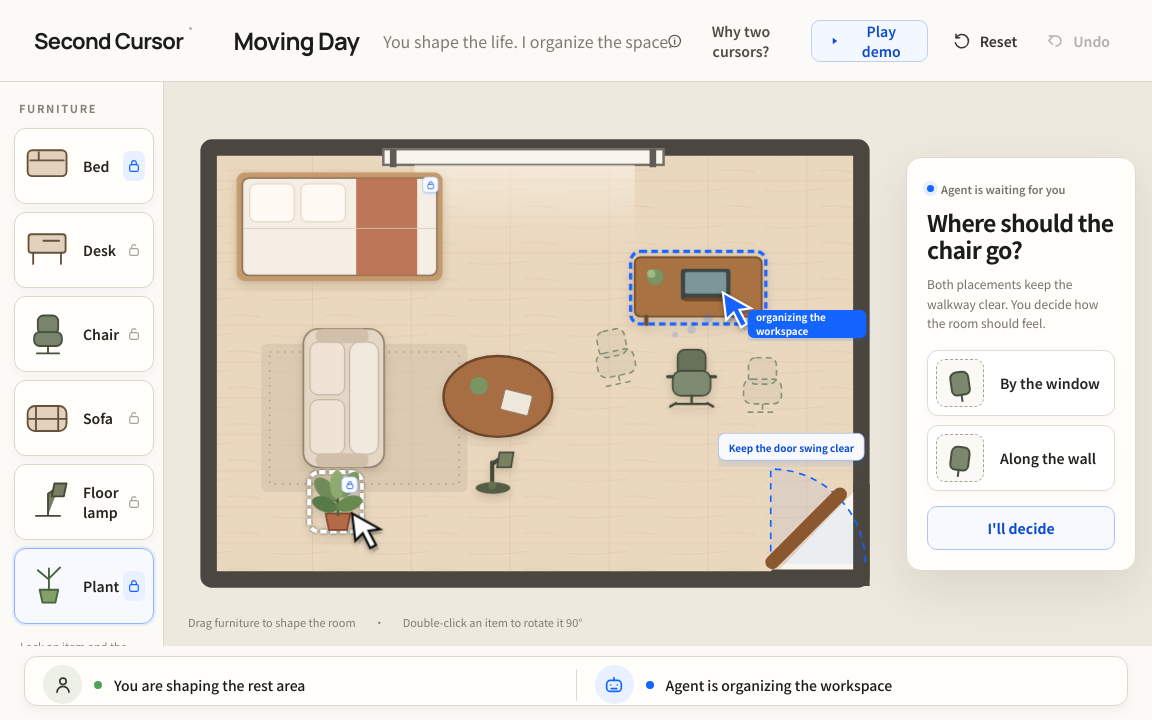
Test: Second Cursor: Moving Day › lets the human protect a furniture decision from the Agent
Click the button named "Prevent Agent from moving Desk": (134, 250) [126,242,142,258]
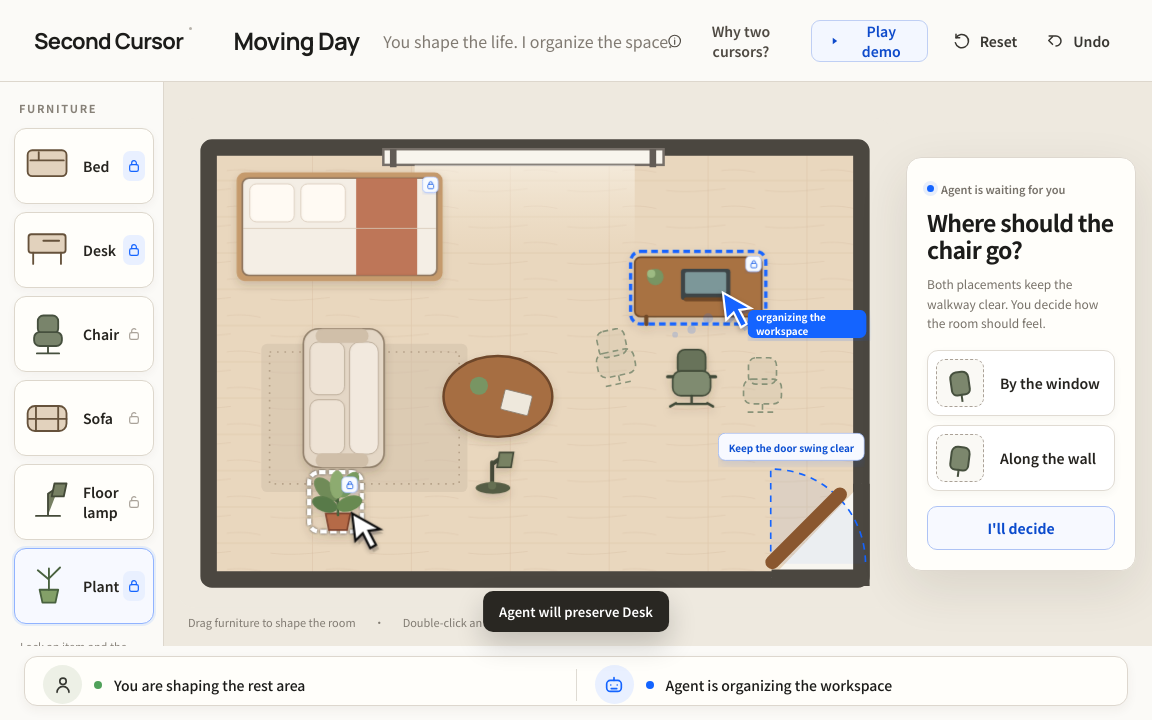
Now the button named "Allow Agent to move Desk" is shown, box [123,235,145,265]
